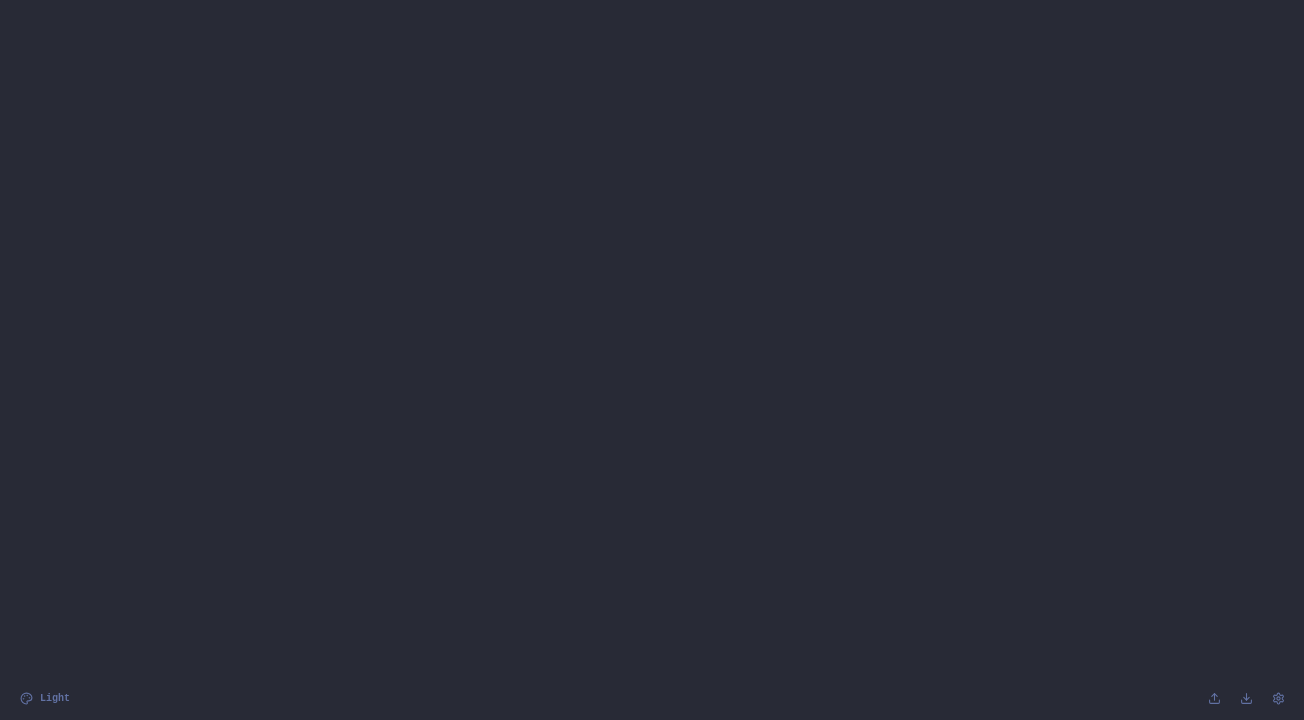
Test: Settings 采样选择功能 › 多语言与法律文案 › 默认 auto 时应跟随系统语言显示介绍文本
Click the button titled "About" at (1278, 698), box top-left (1264, 684), bottom-right (1292, 712)
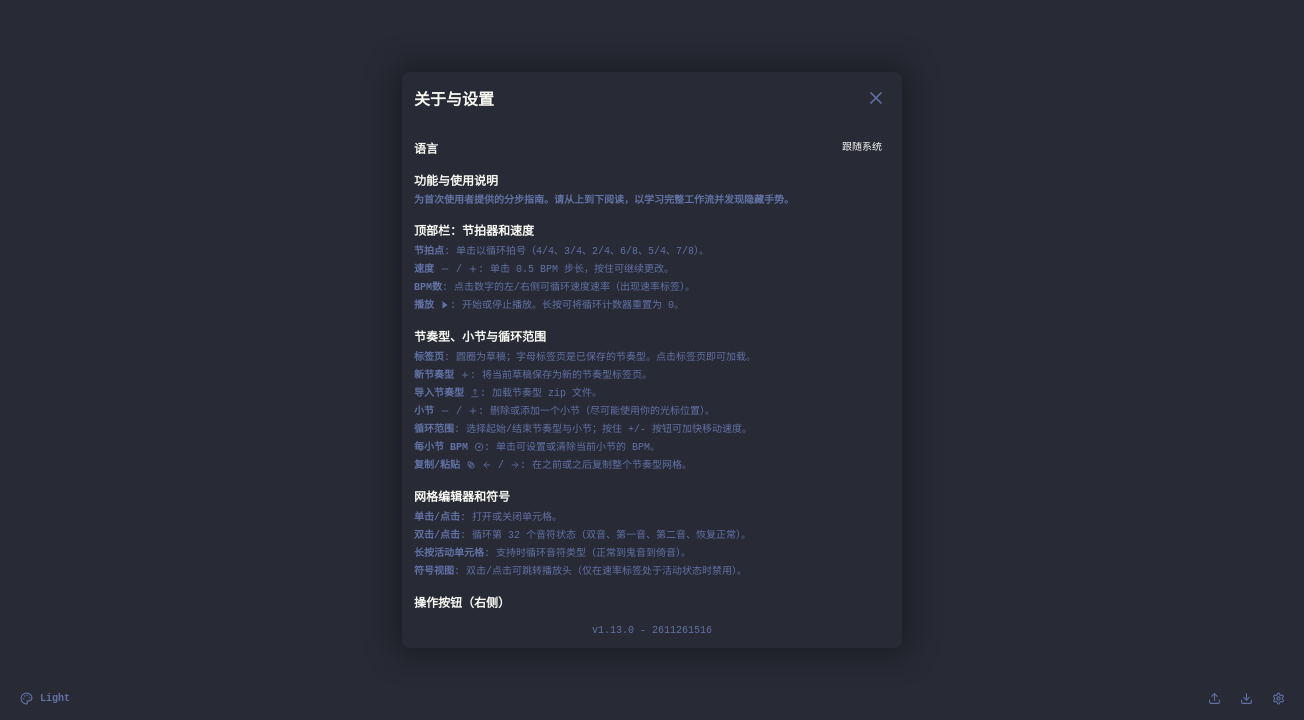
Expected: the heading "功能与使用说明" is shown, top-left (414, 175), bottom-right (498, 189)
Expected: the text "为首次使用者提供的分步指南。请从上到下阅读，以学习完整工作流并发现隐藏手势。" is shown, top-left (414, 195), bottom-right (794, 206)
